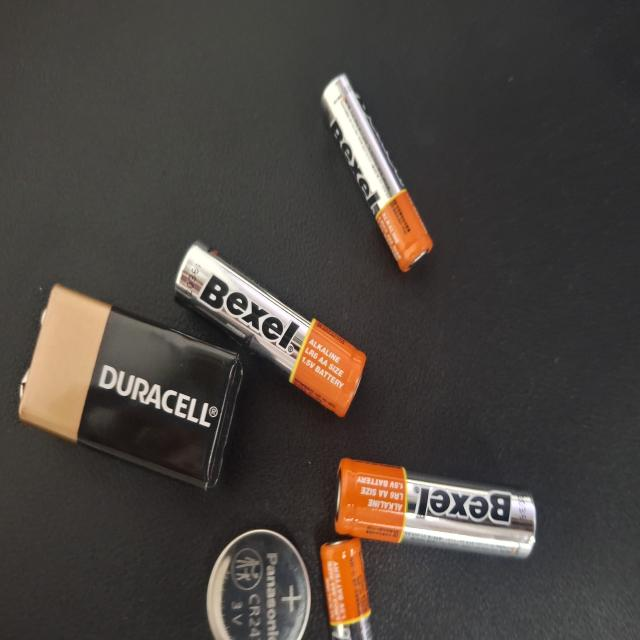9V: (113, 25, 267, 324)
AA: (168, 234, 298, 488), (61, 446, 136, 640)
AAA: (276, 428, 424, 576), (0, 426, 76, 496)
COIN: (0, 276, 83, 413)
